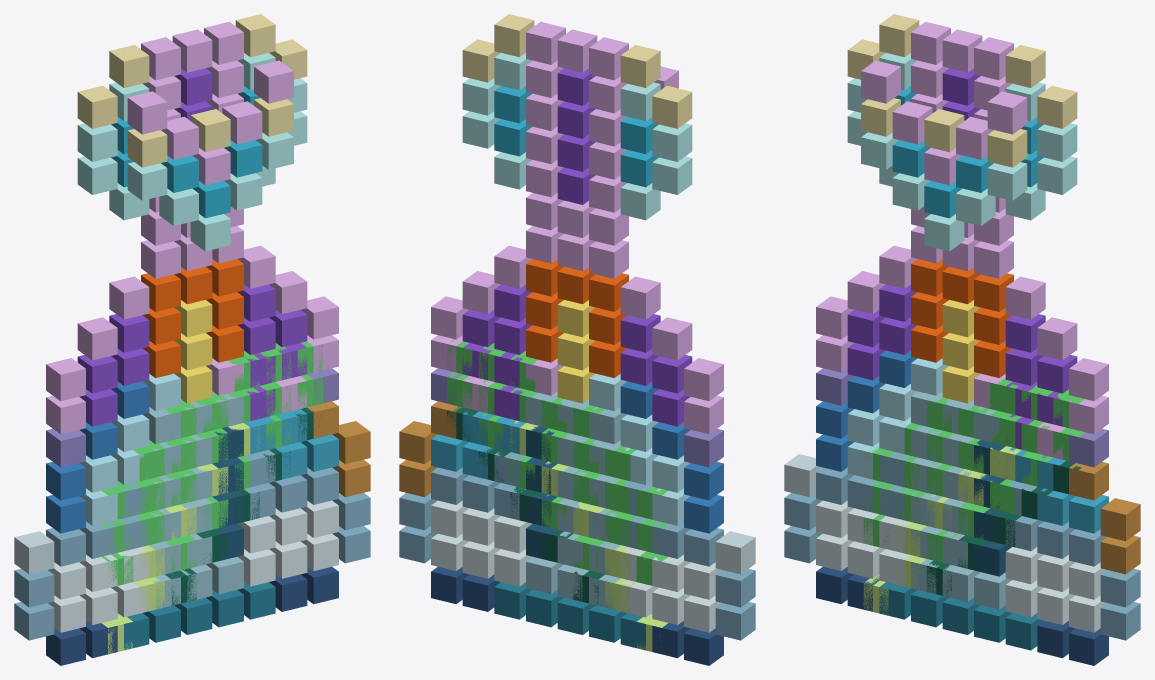
Rendered from paradeHologram.dae.
3 renders of one model, left to right at view 1: azimuth 30°, elevation 25°; view 2: azimuth 150°, elevation 25°; view 3: azimuth 330°, elevation 25°, orthographic.
Parts seen in each view (by area): view 1: cloud_1, candle_1, ghost_coat_1, leaf_1, crescent_1, ghost_veil_1, ghost_long_1, ghost_round_1, ghost_chevrons_1, ghost_skull_1, ghost_visor_1, envelope_1 (+6 smaller); view 2: cloud_1, candle_1, ghost_coat_1, ghost_long_1, leaf_1, ghost_round_1, crescent_1, ghost_skull_1, envelope_1, koi_1, leaf_2, moth_1 (+3 smaller); view 3: cloud_1, candle_1, ghost_coat_1, leaf_1, crescent_1, ghost_veil_1, ghost_long_1, ghost_round_1, ghost_chevrons_1, ghost_skull_1, koi_1, ghost_visor_1 (+6 smaller).
Boxes of the visible parts, left/top/right/bottom form: cloud_1: left=14, top=450, right=370, bottom=665; candle_1: left=124, top=267, right=275, bottom=650; ghost_coat_1: left=46, top=226, right=338, bottom=434; leaf_1: left=101, top=341, right=322, bottom=654; crescent_1: left=46, top=373, right=180, bottom=533; ghost_veil_1: left=127, top=132, right=293, bottom=251; ghost_long_1: left=141, top=21, right=243, bottom=245; ghost_round_1: left=77, top=53, right=307, bottom=220; ghost_chevrons_1: left=127, top=60, right=293, bottom=185; ghost_skull_1: left=77, top=14, right=307, bottom=128; ghost_visor_1: left=127, top=98, right=293, bottom=167; envelope_1: left=244, top=409, right=338, bottom=479; cloud_1: left=399, top=452, right=755, bottom=665; candle_1: left=494, top=267, right=652, bottom=650; ghost_coat_1: left=431, top=226, right=723, bottom=434; ghost_long_1: left=526, top=21, right=628, bottom=245; leaf_1: left=447, top=339, right=668, bottom=651; ghost_round_1: left=462, top=53, right=692, bottom=220; crescent_1: left=589, top=373, right=723, bottom=533; ghost_skull_1: left=462, top=14, right=692, bottom=128; envelope_1: left=431, top=411, right=525, bottom=479; koi_1: left=399, top=401, right=755, bottom=574; leaf_2: left=510, top=350, right=667, bottom=519; moth_1: left=431, top=368, right=723, bottom=467; cloud_1: left=784, top=452, right=1140, bottom=665; candle_1: left=879, top=267, right=1043, bottom=650; ghost_coat_1: left=816, top=226, right=1108, bottom=459; leaf_1: left=863, top=385, right=1084, bottom=614; crescent_1: left=816, top=350, right=948, bottom=479; ghost_veil_1: left=861, top=132, right=1027, bottom=251; ghost_long_1: left=911, top=21, right=1013, bottom=245; ghost_round_1: left=847, top=53, right=1077, bottom=220; ghost_chevrons_1: left=861, top=60, right=1027, bottom=185; ghost_skull_1: left=847, top=14, right=1077, bottom=128; koi_1: left=784, top=454, right=1140, bottom=574; ghost_visor_1: left=861, top=98, right=1027, bottom=167.
Size of the model in its own units: 13.5 by 22.25 by 2.25.
Materials: 1 (1 with a texture image).
